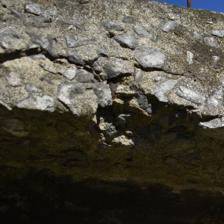Crack: (2, 20, 109, 70)
